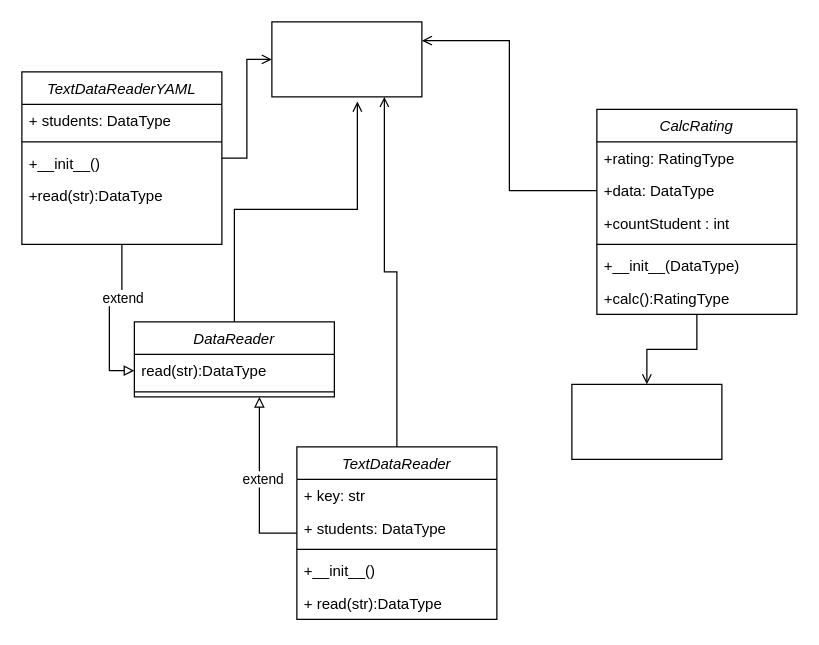
The diagram is 819 pixels wide and 645 high, and some of its shapes have lost their labels. Each missing label, with the centre of its shape:
"typedef" DataType: the point at 346,59
"typedef" RatingType: the point at 646,421
